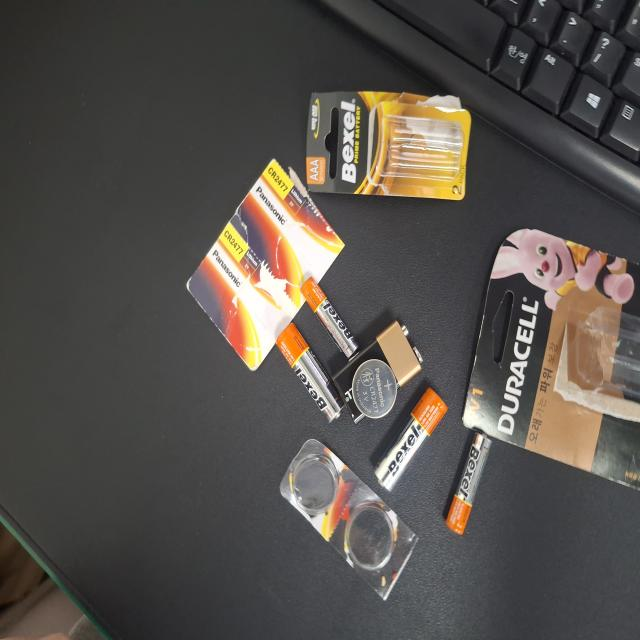9V: (240, 291, 318, 411)
AA: (291, 257, 368, 353), (242, 398, 316, 485)
AAA: (324, 198, 401, 259), (209, 376, 270, 451)
COIN: (269, 324, 314, 384)
